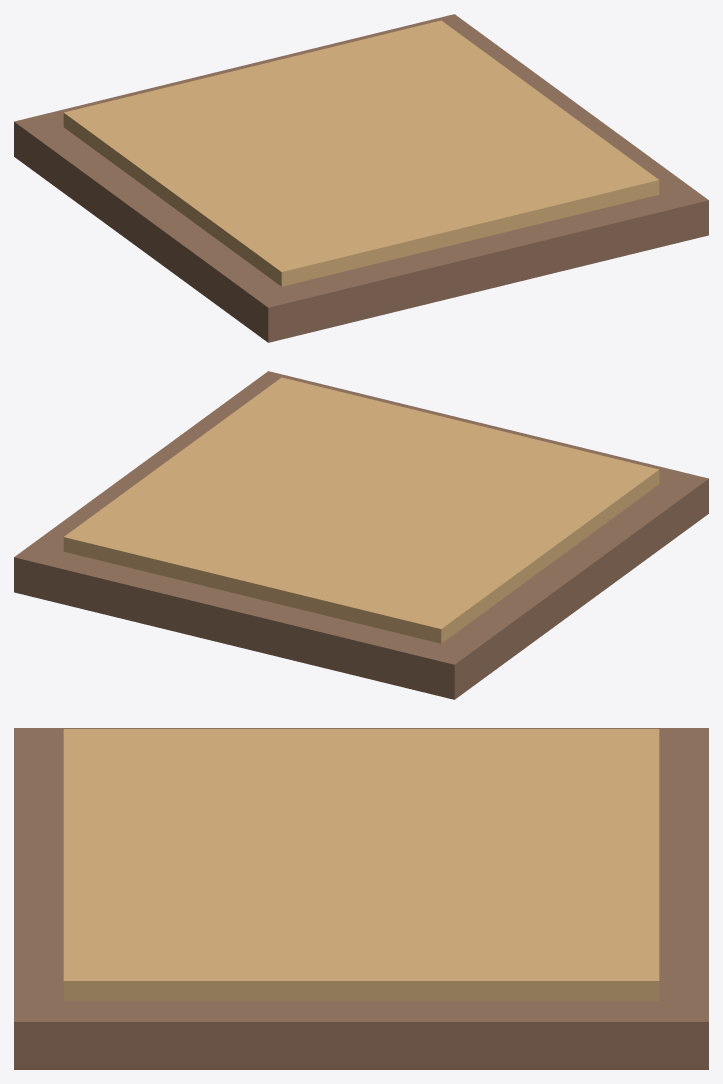
The model's file is globe-plinth-detail.glb.
The picture shows the model from 3 angles, top to bottom: view 1: azimuth 30°, elevation 25°; view 2: azimuth 150°, elevation 25°; view 3: azimuth 270°, elevation 25°; orthographic projection. The views are drawn at different scales.
Visible parts, largest first — view 1: piece1, piece0; view 2: piece1, piece0; view 3: piece1, piece0.
Boxes of the visible parts, <box> form: piece1: <box>63,20,659,286</box>; piece0: <box>14,14,708,342</box>; piece1: <box>63,377,659,643</box>; piece0: <box>14,371,708,699</box>; piece1: <box>63,729,659,1000</box>; piece0: <box>14,728,708,1069</box>.
Bounding box in the file's own units: 3.15 × 0.34 × 3.15.
